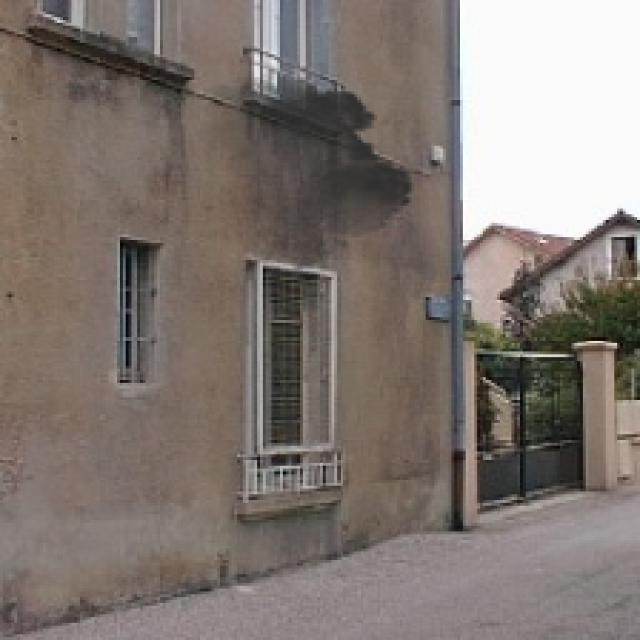Smoke: (191, 71, 423, 278)
